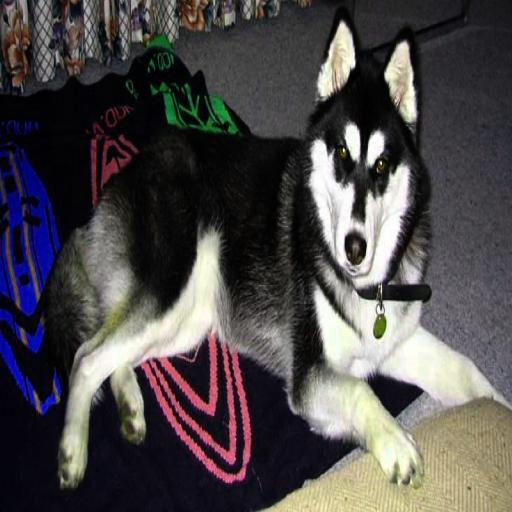dog_face: (310, 16, 424, 269)
